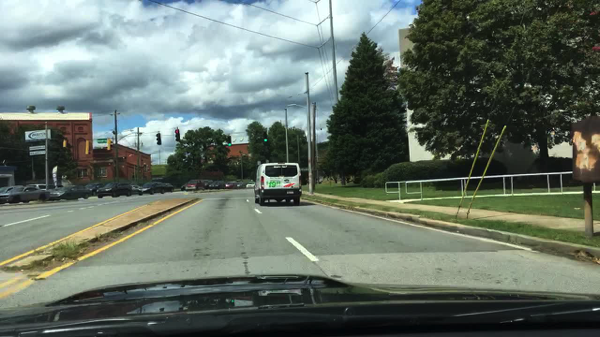car: (254, 161, 302, 206), (7, 186, 46, 205), (48, 184, 91, 201), (96, 181, 132, 198), (0, 185, 25, 205), (137, 182, 167, 195), (85, 183, 106, 196), (184, 180, 206, 192), (208, 180, 227, 191), (26, 184, 50, 192), (225, 180, 239, 190), (200, 179, 214, 189), (131, 185, 142, 195), (164, 183, 175, 192), (47, 184, 63, 189), (245, 182, 255, 189), (237, 182, 246, 189), (180, 183, 187, 191), (316, 179, 323, 184)
traffic light: (85, 140, 93, 155), (156, 132, 162, 146), (106, 138, 112, 151), (175, 129, 181, 142), (262, 130, 267, 145), (227, 135, 231, 147)
traffic sign: (25, 129, 52, 142), (29, 145, 46, 157), (96, 138, 106, 143), (257, 161, 262, 166)
